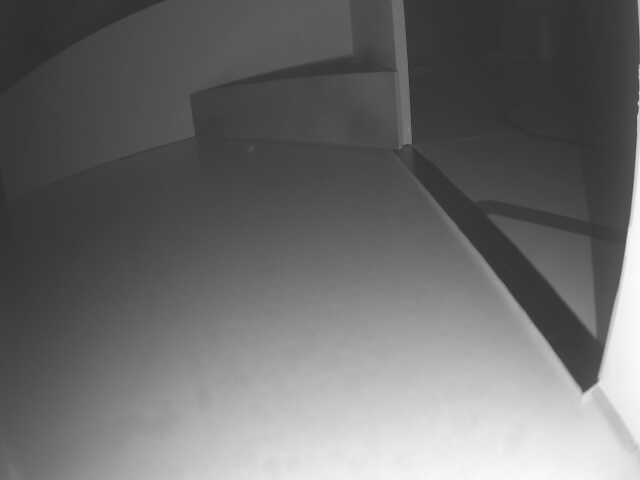Green: (190, 73, 399, 152)
